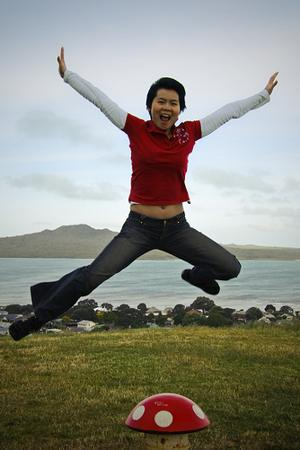person: (11, 46, 278, 347)
